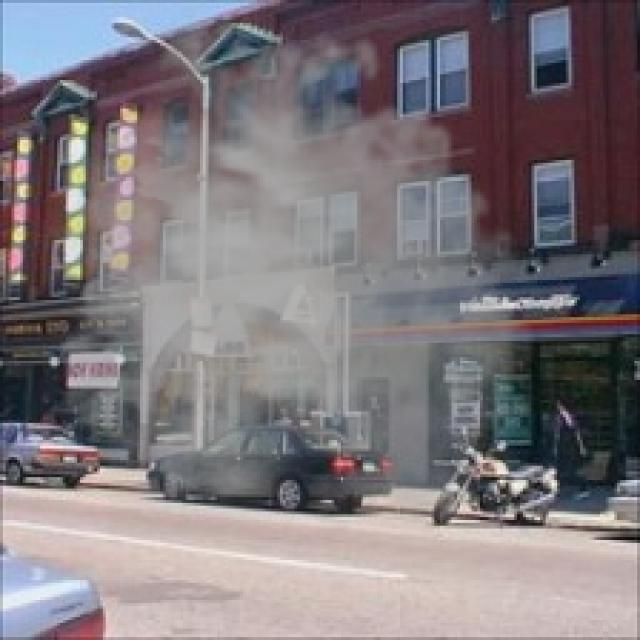smoke: (14, 0, 552, 535)
